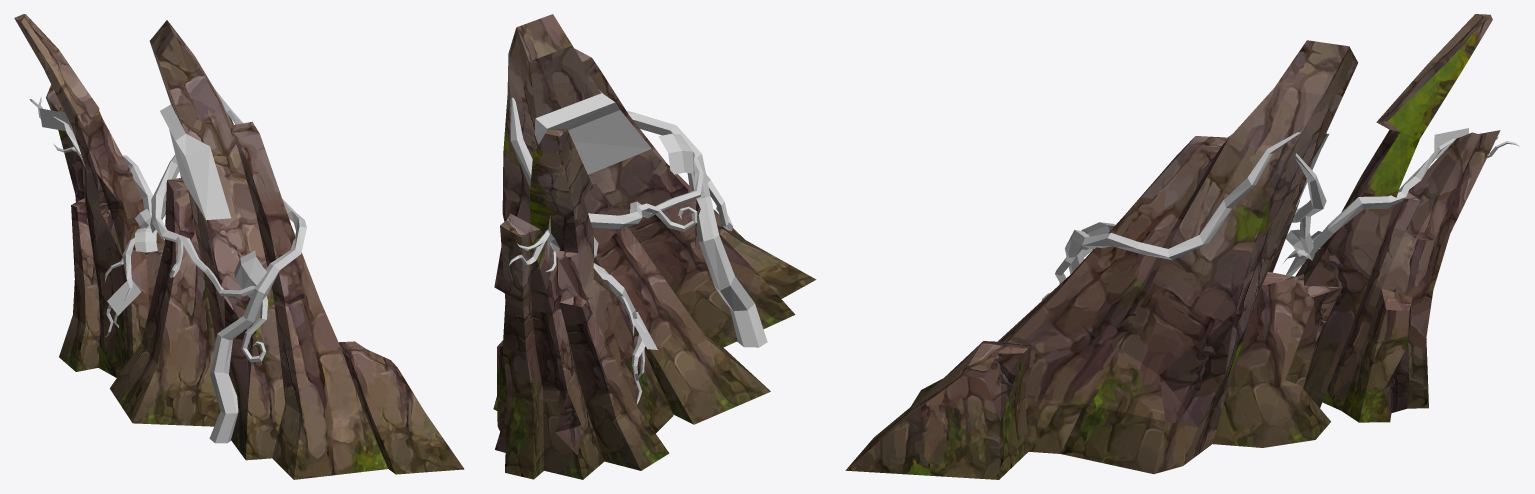
The model's file is LM_CenterPillar03b.FBX.
3 views of the same model, side by side, from view 1: azimuth 30°, elevation 25°; view 2: azimuth 150°, elevation 25°; view 3: azimuth 270°, elevation 25° (orthographic). The views are drawn at different scales.
Visible parts, largest first — view 1: LM_CenterPillar03b; view 2: LM_CenterPillar03b; view 3: LM_CenterPillar03b.
Boxes of the visible parts, x1,y1,x2,y2 form: LM_CenterPillar03b: (14, 14, 464, 479); LM_CenterPillar03b: (493, 14, 816, 479); LM_CenterPillar03b: (845, 14, 1519, 479).
Bounding box in the file's own units: 890 × 1233 × 2008.
